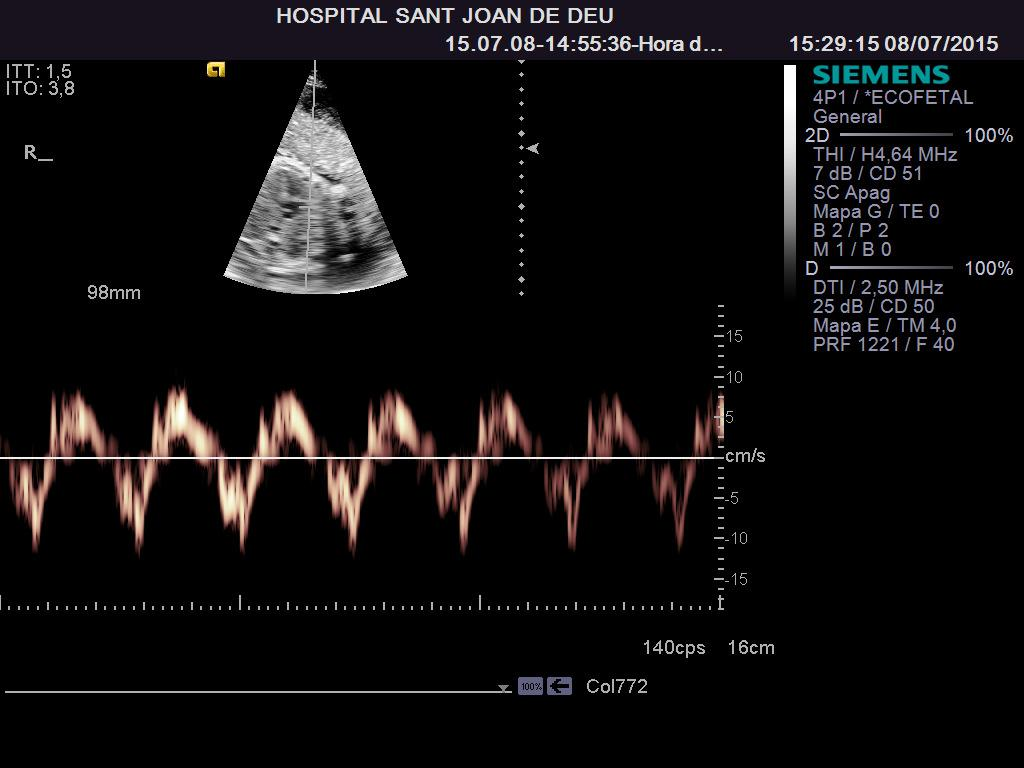Ultrasound-Waves: (3, 312, 714, 594)
